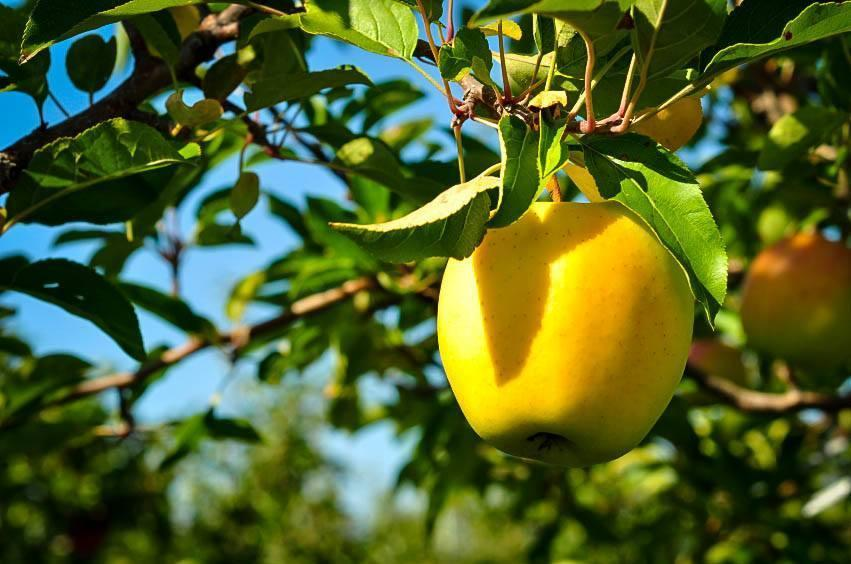apple: (437, 204, 696, 461)
